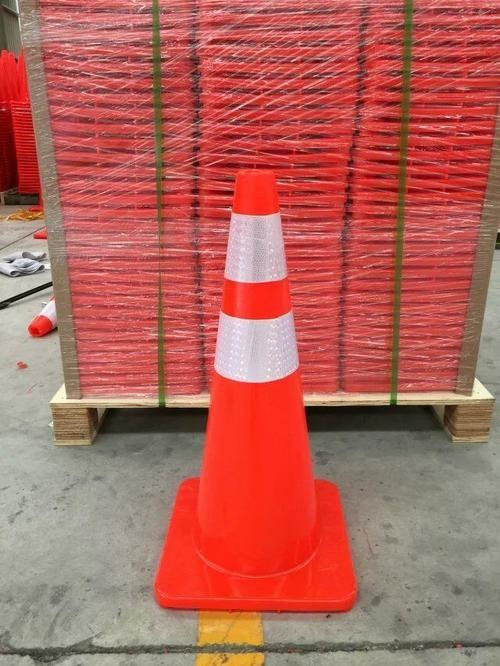cone_barrel: (182, 173, 333, 596)
